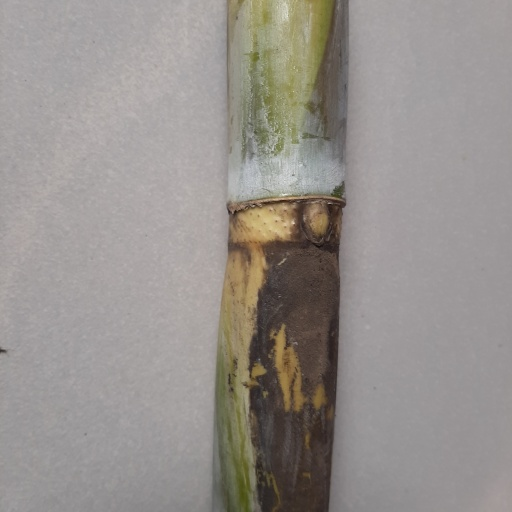Bud: (301, 201, 333, 248)
